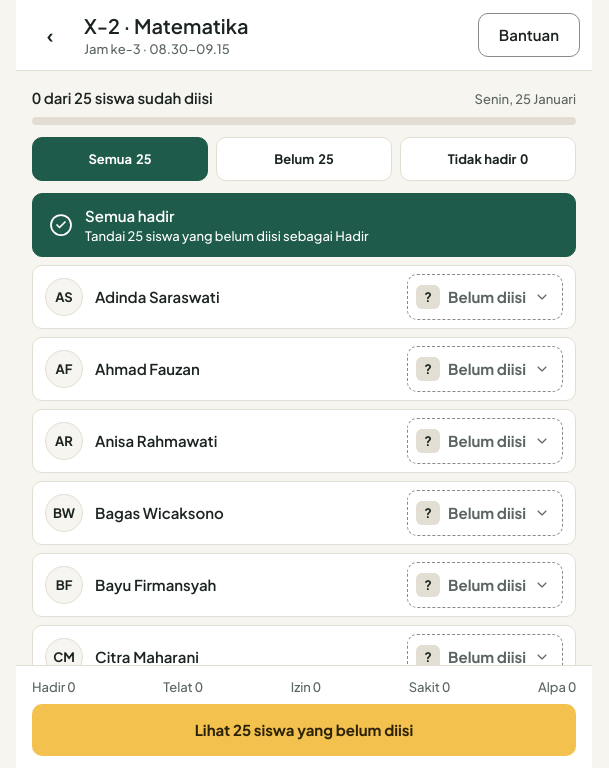
Test: step 2: opened, everyone "Belum diisi" › the main button shows the unfilled and there is no way to send yet
The image size is (609, 768).
Click the button "Lihat 25 siswa yang belum diisi" at {"x": 304, "y": 730}, box top-left (32, 704), bottom-right (576, 756)
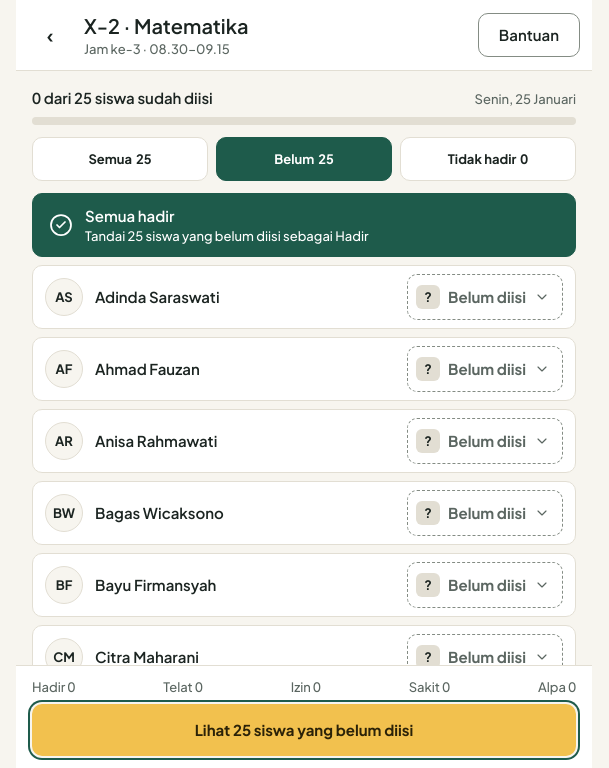
Check: the button "Belum 25" is pressed, box top-left (216, 137), bottom-right (392, 181)
